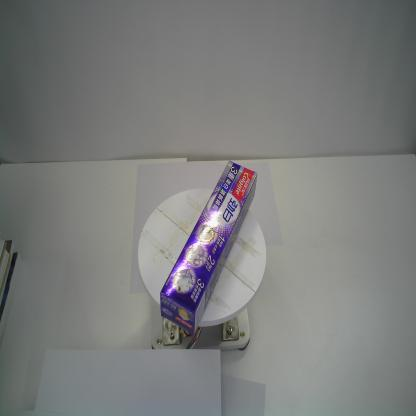Personal Hygiene: (159, 159, 258, 337)
